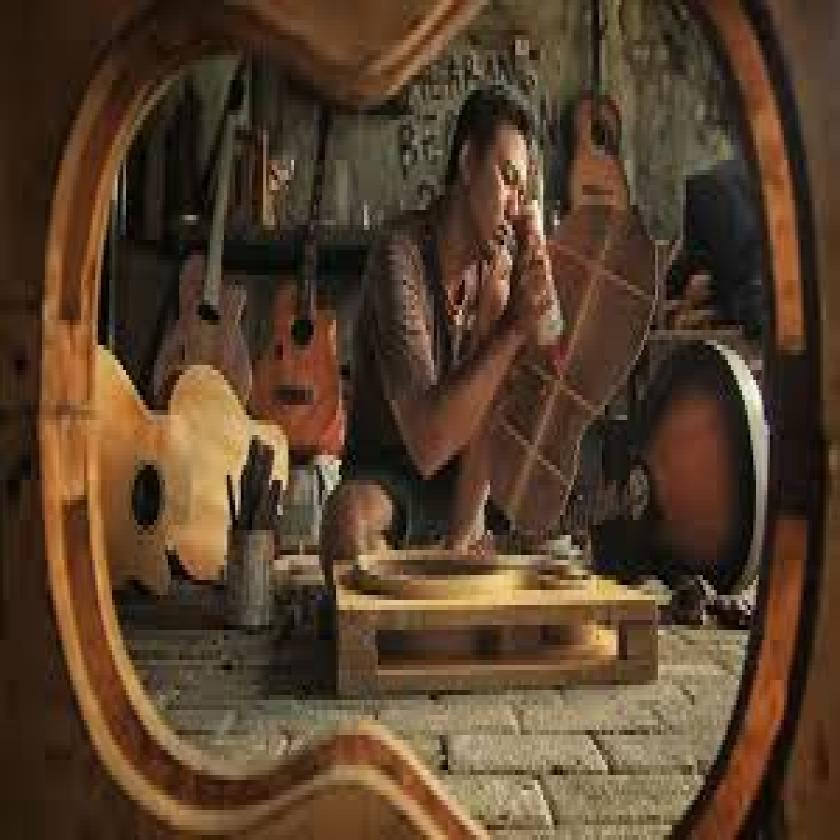Sin_casco: (448, 95, 533, 259)
